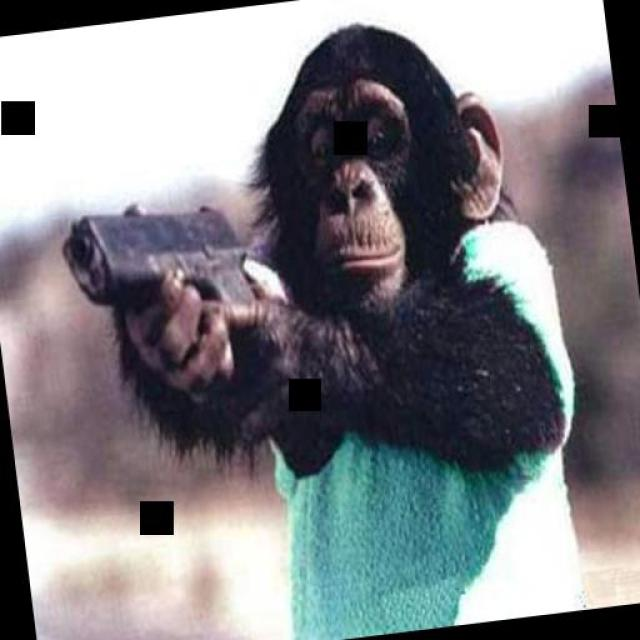gun: (55, 190, 261, 335)
